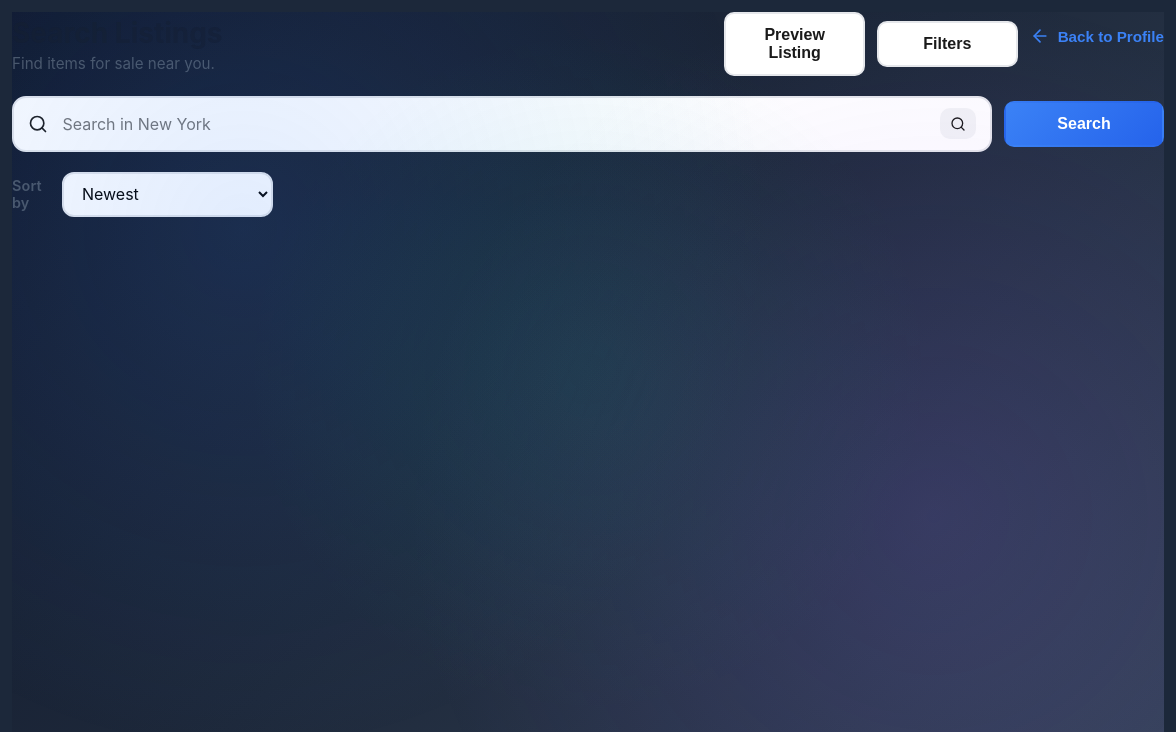
SearchListings › shows recent searches when focused and empty
Focus the field with placeholder "Search in New York" at (494, 124), box [60,113,928,135]
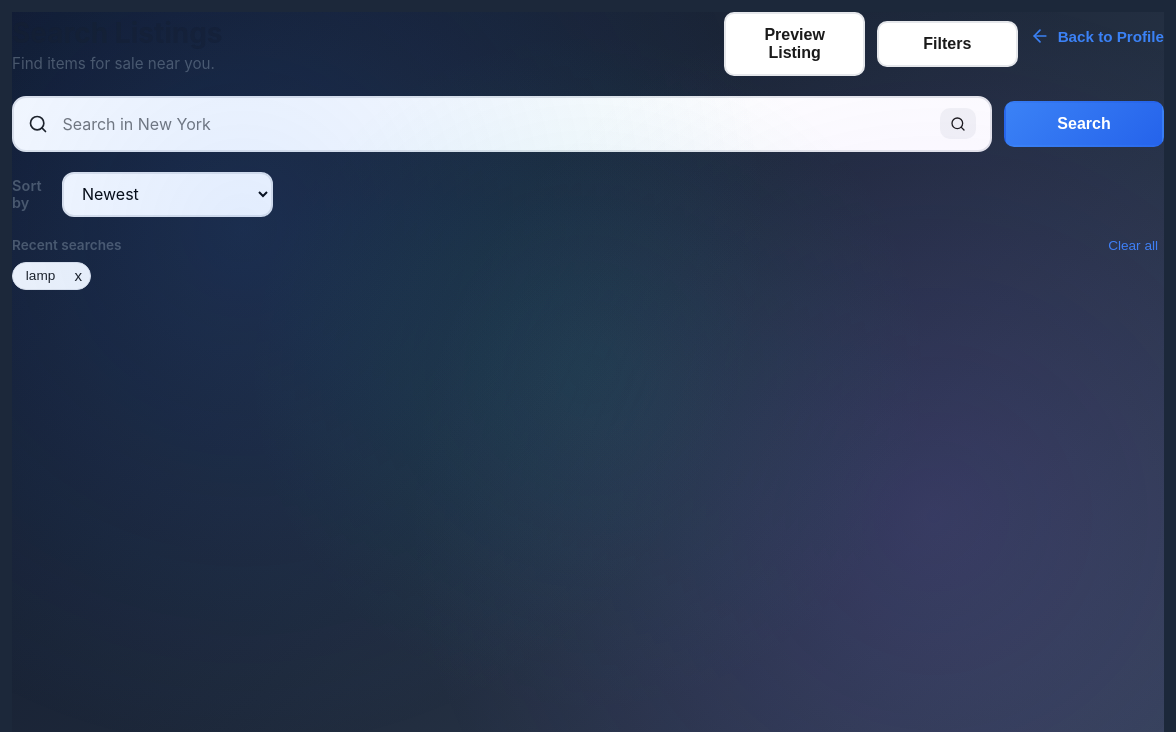
Result: the text "Recent searches" is shown at [12,237,122,253]
Result: the button "lamp" is shown at [13,263,66,289]
